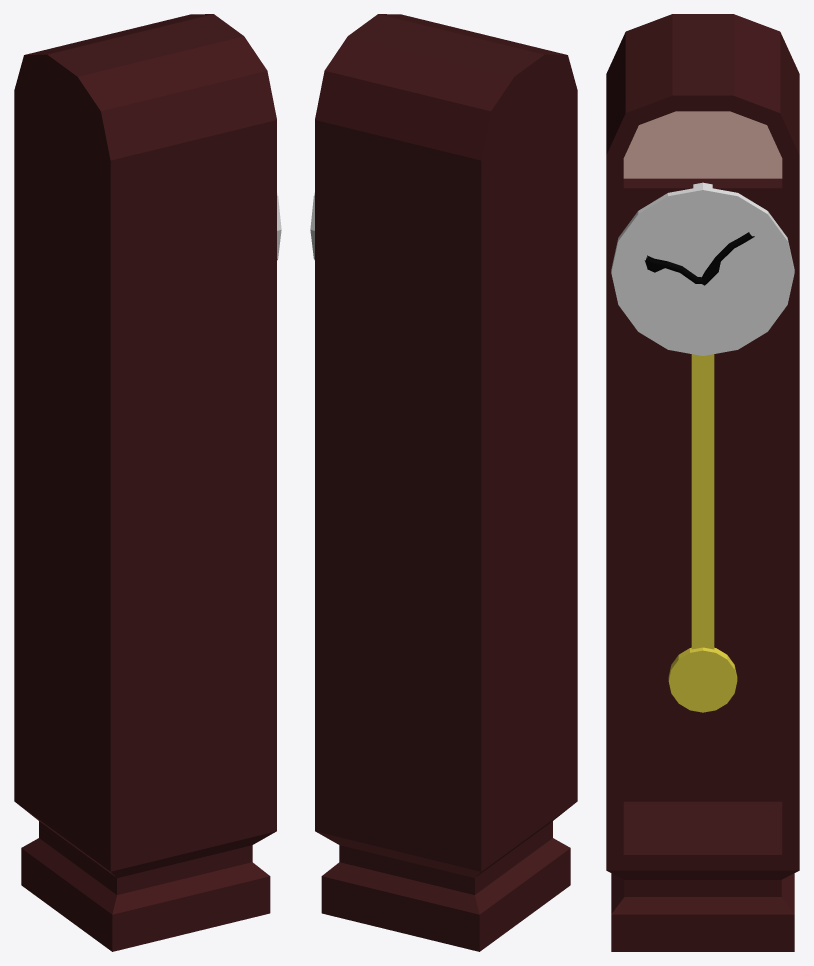
Rendered from clock.fbx.
3 renders of one model, left to right at view 1: azimuth 30°, elevation 25°; view 2: azimuth 150°, elevation 25°; view 3: azimuth 270°, elevation 25°, orthographic.
Parts seen in each view (by area): view 1: 平面; view 2: 平面; view 3: 平面, 円柱.001, 立方体, 立方体.001.
Part boxes in pixels (left/top/right/bottom): 平面: left=14, top=14, right=276, bottom=951; 平面: left=315, top=14, right=577, bottom=951; 平面: left=606, top=14, right=799, bottom=951; 円柱.001: left=611, top=182, right=794, bottom=355; 立方体: left=668, top=354, right=737, bottom=712; 立方体.001: left=644, top=232, right=754, bottom=285.
Size of the model in its own units: 226 by 1033 by 211.
